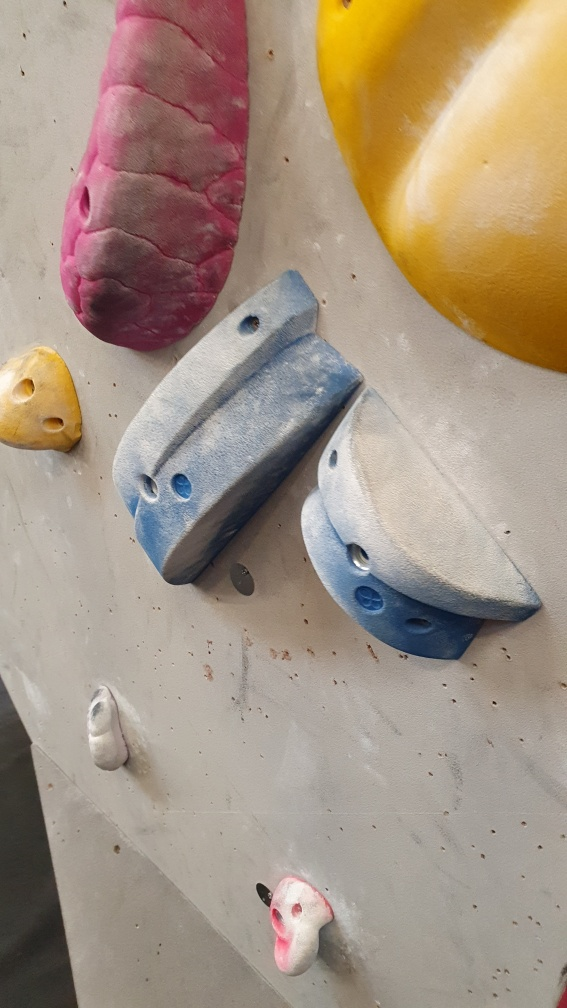Hand Start: (225, 560, 262, 604), (251, 878, 276, 911)
Pinch: (111, 265, 371, 589), (299, 387, 553, 669)
